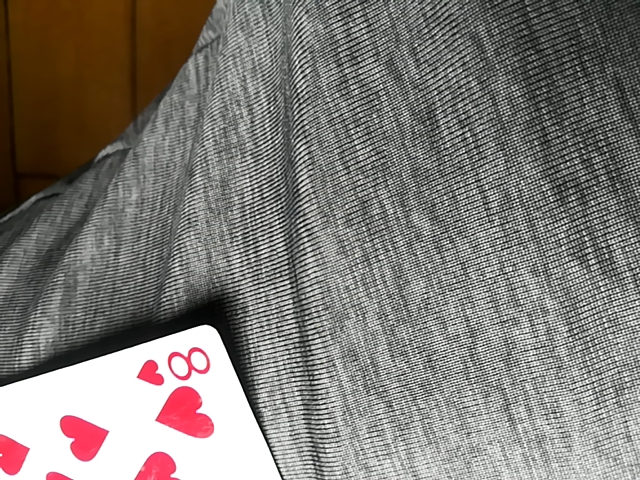hx 8: (1, 320, 277, 480)
